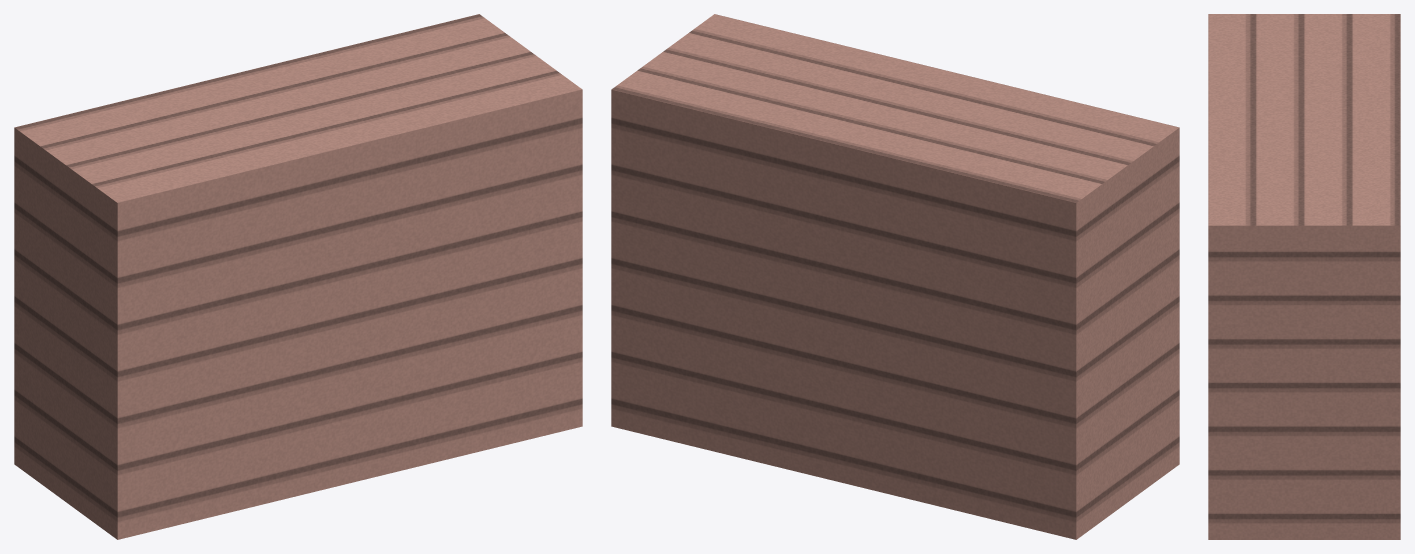
File: sideboard_buffet.glb
The picture shows the model from 3 angles, left to right: view 1: azimuth 30°, elevation 25°; view 2: azimuth 150°, elevation 25°; view 3: azimuth 270°, elevation 25°; orthographic projection. The views are drawn at different scales.
Parts seen in each view (by area): view 1: sideboard_buffet-col; view 2: sideboard_buffet-col; view 3: sideboard_buffet-col.
Part boxes in pixels (x1,y1,x2,y2): sideboard_buffet-col: (14,14,582,539); sideboard_buffet-col: (611,14,1179,539); sideboard_buffet-col: (1208,14,1400,539).
Size of the model in its own units: 1.3 by 0.9 by 0.5.
Materials: 1 (1 with a texture image).
